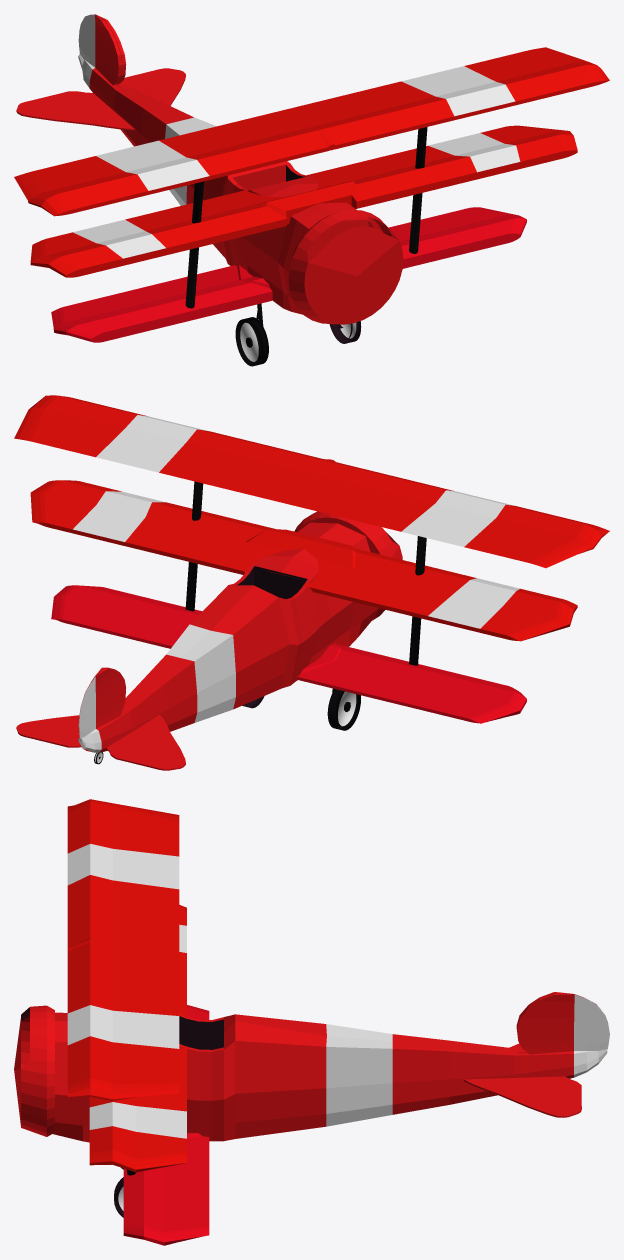
The model's file is red_baron_mod.fbx.
The picture shows the model from 3 angles, top to bottom: view 1: azimuth 30°, elevation 25°; view 2: azimuth 150°, elevation 25°; view 3: azimuth 270°, elevation 25°; orthographic projection. The views are drawn at different scales.
Visible parts, largest first — view 1: Cube.002, Cube, Cube.001, Cube.003, Circle.001, Circle.002; view 2: Cube.002, Cube, Cube.001, Cube.003, Circle.001; view 3: Cube, Cube.002, Cube.001.
Part boxes in pixels (bbox=[...]): Cube.002: bbox=[14, 47, 609, 277]; Cube: bbox=[16, 14, 403, 324]; Cube.001: bbox=[51, 207, 526, 342]; Cube.003: bbox=[185, 127, 427, 308]; Circle.001: bbox=[235, 303, 268, 366]; Circle.002: bbox=[329, 321, 361, 343]; Cube.002: bbox=[14, 395, 609, 641]; Cube: bbox=[16, 511, 402, 770]; Cube.001: bbox=[51, 585, 526, 723]; Cube.003: bbox=[185, 481, 426, 665]; Circle.001: bbox=[327, 688, 360, 730]; Cube: bbox=[14, 992, 609, 1142]; Cube.002: bbox=[67, 799, 186, 1172]; Cube.001: bbox=[123, 1005, 209, 1245].
Bounding box in the file's own units: 498 × 202 × 425.
